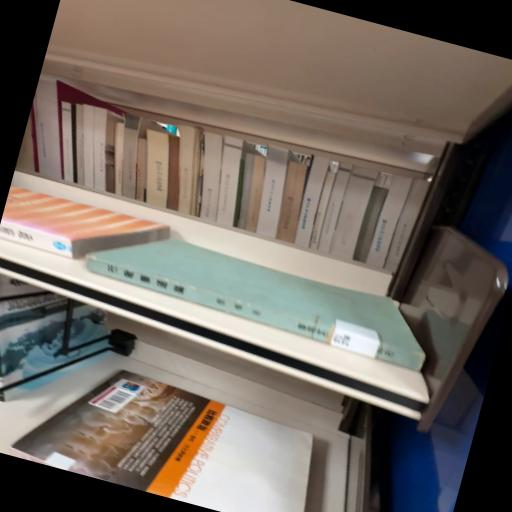flat: (86, 239, 425, 371), (10, 371, 314, 512), (1, 186, 170, 260)
